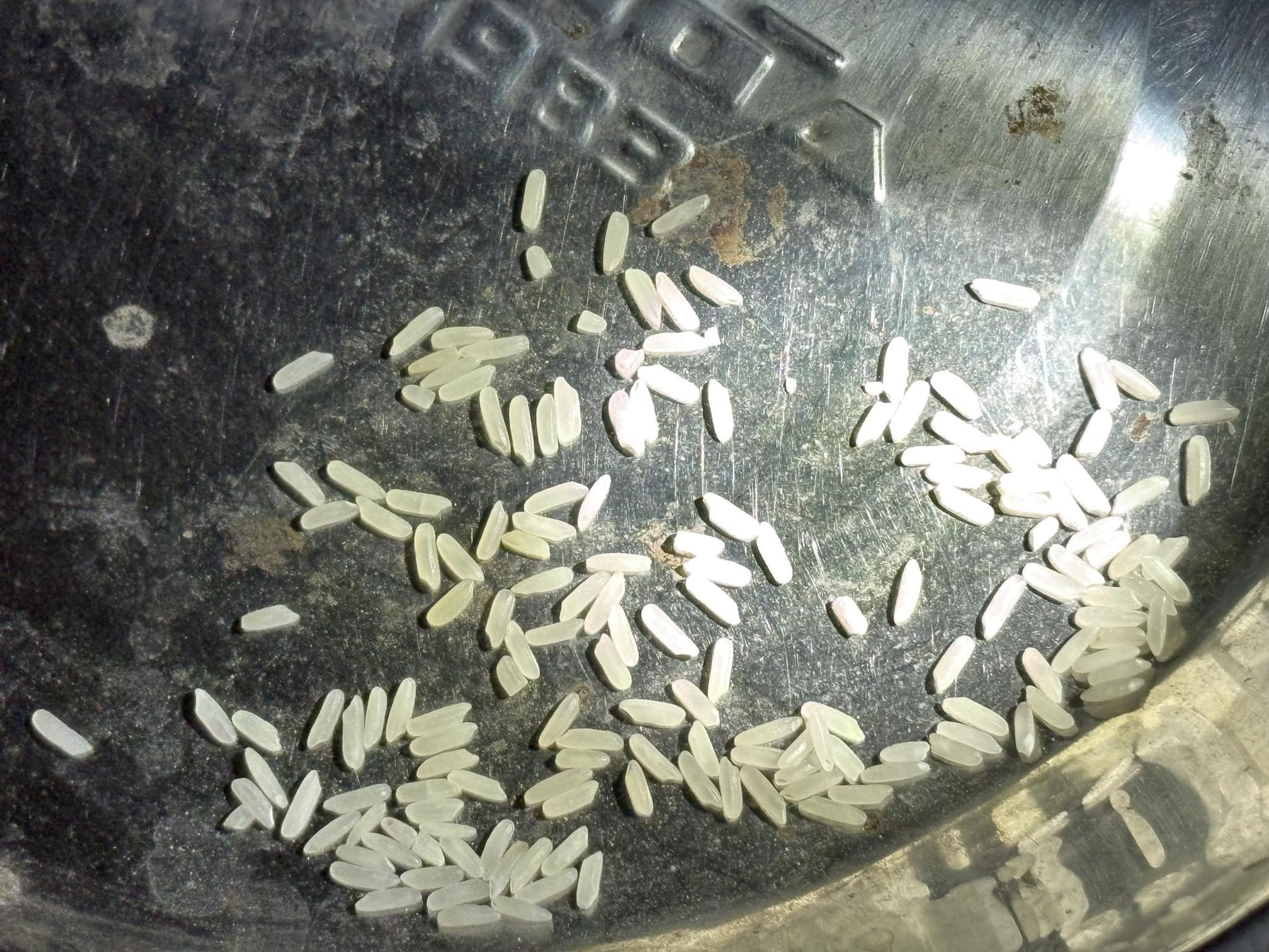Rice-th-y-nh: (930, 404, 998, 460), (1055, 452, 1111, 517), (970, 268, 1041, 319), (29, 706, 94, 761), (640, 601, 700, 660), (801, 695, 866, 749), (523, 760, 593, 810), (685, 569, 742, 629), (1169, 388, 1240, 436), (410, 716, 479, 765), (979, 571, 1027, 641), (601, 389, 649, 459), (702, 488, 760, 545), (932, 479, 995, 531), (513, 862, 578, 912), (733, 707, 802, 754), (618, 691, 687, 736), (886, 378, 933, 444), (389, 303, 444, 359), (740, 763, 788, 827), (326, 454, 386, 505), (582, 571, 628, 637), (406, 695, 472, 741), (628, 731, 682, 787), (304, 806, 361, 859), (355, 492, 413, 544), (675, 749, 722, 813), (190, 685, 239, 746), (507, 834, 555, 896), (654, 270, 701, 333), (1179, 434, 1220, 506), (651, 190, 710, 240), (875, 336, 917, 406), (555, 719, 625, 761), (523, 474, 588, 519), (930, 366, 983, 421), (1080, 346, 1124, 412), (752, 520, 796, 586), (943, 694, 1010, 737), (930, 633, 977, 694), (1139, 553, 1192, 607), (558, 568, 609, 624), (687, 261, 743, 312), (797, 704, 839, 772), (283, 771, 323, 842), (637, 362, 701, 406), (490, 889, 554, 933), (447, 763, 508, 809), (271, 350, 336, 393), (700, 378, 743, 443), (415, 742, 480, 785), (304, 688, 349, 750), (274, 457, 326, 510), (623, 266, 666, 330), (671, 675, 721, 730), (426, 575, 476, 630), (536, 691, 582, 750), (643, 324, 709, 365), (1108, 531, 1160, 583), (436, 531, 485, 586), (542, 823, 590, 879), (585, 544, 652, 584), (711, 756, 752, 821), (590, 633, 634, 693), (603, 604, 644, 668), (472, 500, 514, 562), (932, 719, 1002, 756), (798, 794, 866, 832), (927, 456, 993, 495), (503, 394, 539, 465), (1022, 563, 1084, 604), (1047, 547, 1107, 589), (363, 830, 423, 872), (1109, 355, 1160, 404), (527, 393, 566, 457), (515, 168, 554, 232), (988, 428, 1040, 476), (1024, 686, 1077, 733), (550, 376, 586, 445), (437, 363, 497, 404), (999, 484, 1059, 525), (245, 750, 287, 808), (683, 554, 752, 589), (684, 719, 724, 779), (597, 210, 635, 273), (477, 386, 512, 454), (1021, 647, 1064, 702), (541, 779, 600, 819), (478, 818, 516, 880), (355, 884, 424, 918), (570, 851, 609, 911), (230, 776, 275, 828), (1073, 602, 1148, 633), (486, 840, 526, 898), (426, 877, 492, 912), (780, 767, 844, 803), (357, 685, 393, 749), (439, 834, 488, 881), (619, 759, 658, 818), (232, 708, 282, 754), (503, 621, 541, 681), (1112, 475, 1169, 515), (329, 859, 398, 892), (323, 782, 392, 815), (1050, 625, 1095, 675), (852, 399, 896, 450), (384, 677, 418, 743), (1048, 476, 1088, 532), (336, 843, 398, 879), (858, 758, 932, 788), (1067, 514, 1123, 553), (512, 509, 574, 544), (410, 522, 441, 592), (394, 774, 459, 807), (892, 559, 924, 625), (386, 487, 452, 519), (576, 474, 612, 532), (400, 862, 467, 893), (463, 333, 530, 364), (628, 380, 661, 442), (512, 566, 574, 599), (339, 699, 367, 771), (1070, 646, 1139, 675), (1075, 408, 1115, 458), (828, 779, 894, 809), (483, 588, 516, 648), (899, 440, 965, 470), (1083, 529, 1131, 570), (436, 901, 499, 932), (826, 732, 865, 782), (1008, 701, 1042, 758), (345, 800, 388, 845), (298, 499, 358, 531), (1078, 584, 1142, 614), (929, 733, 983, 768), (706, 637, 735, 702), (430, 322, 494, 351), (405, 796, 464, 827), (1087, 656, 1147, 686), (240, 603, 299, 633), (526, 618, 583, 649), (671, 528, 725, 560), (407, 346, 461, 377), (502, 527, 551, 561), (1014, 426, 1054, 467), (830, 594, 869, 636), (776, 726, 814, 769), (493, 654, 529, 699), (417, 817, 477, 844), (555, 745, 610, 773), (730, 742, 781, 771), (1118, 574, 1161, 608), (879, 739, 930, 766), (411, 831, 446, 868), (1026, 515, 1060, 551), (775, 760, 818, 788), (381, 816, 418, 848), (525, 244, 554, 280), (222, 803, 256, 831), (401, 383, 436, 410), (616, 349, 646, 379), (576, 309, 608, 335), (703, 325, 723, 348), (864, 379, 886, 397)
